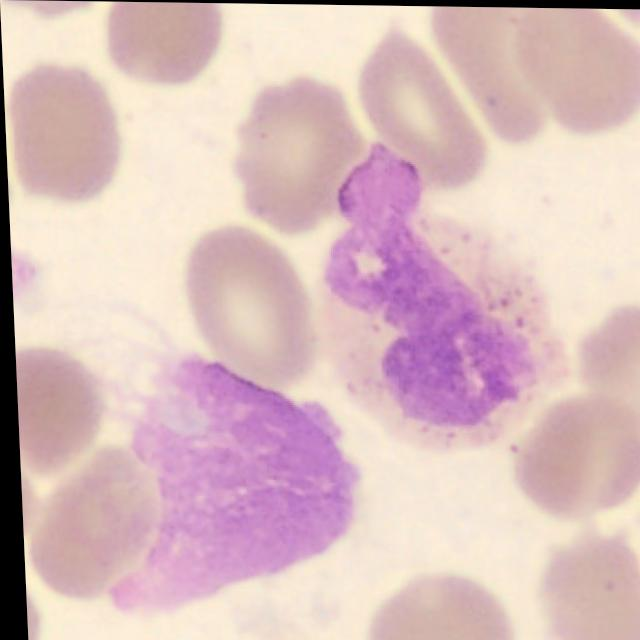Restos celulares: (316, 143, 564, 454), (104, 359, 356, 615)
